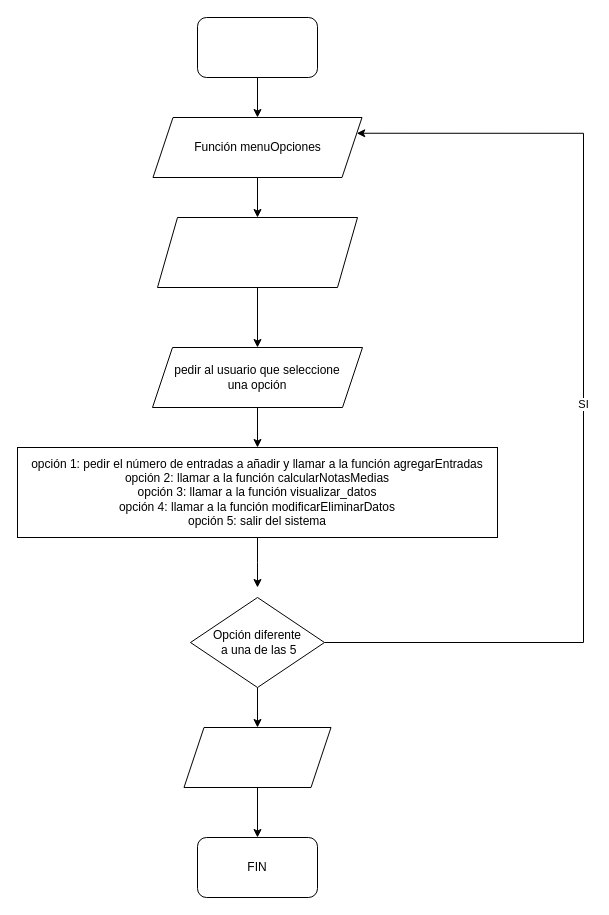
Image size: 609x915. Some labels were removed from this diagram. Here are the shapes that lost their labels. From the top down, the centre of each, then its label:
(257,47): INICIO
(257,252): mostrar un menú de opciones
(257,757): Ejecuta la acción correspondiente
